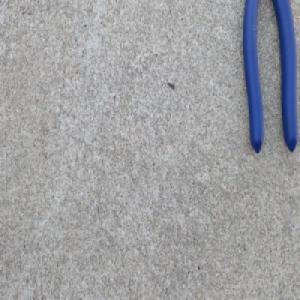Pliers: (241, 0, 299, 157)
